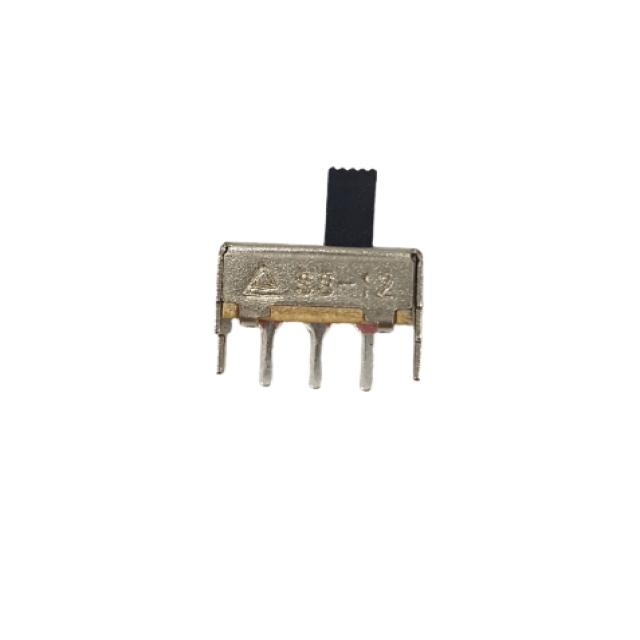switch: (217, 169, 424, 393)
